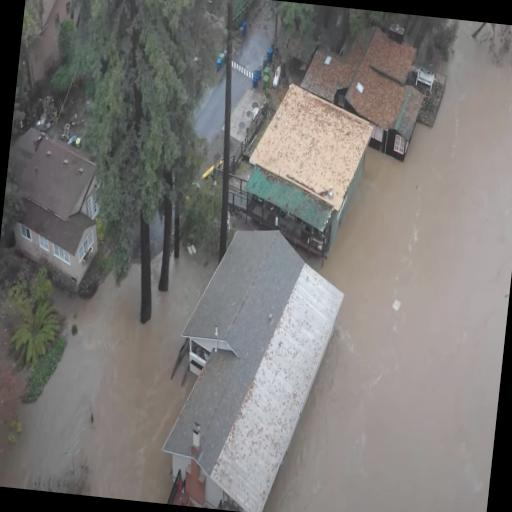flood: (264, 20, 512, 512), (264, 28, 512, 512), (0, 248, 215, 503)
house: (154, 218, 363, 512), (236, 72, 382, 252), (0, 107, 113, 302), (294, 19, 438, 160)
